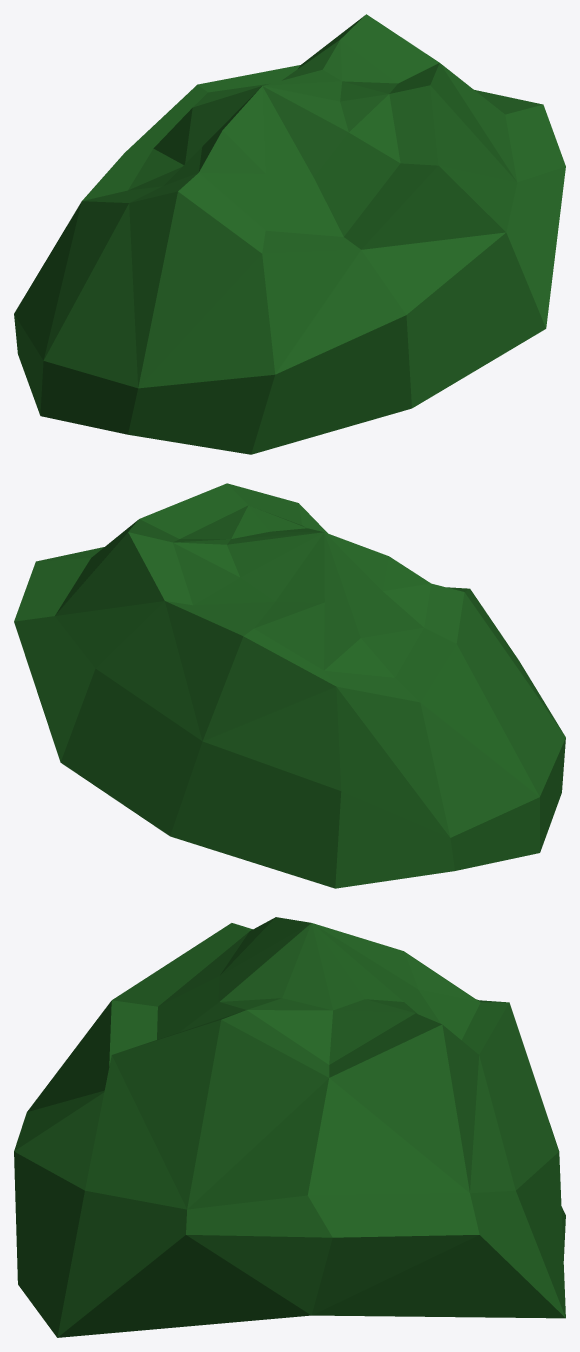
The model's file is TT_Japanese_spoon_Powder.fbx.
3 views of the same model, one above another, from view 1: azimuth 30°, elevation 25°; view 2: azimuth 150°, elevation 25°; view 3: azimuth 270°, elevation 25° (orthographic). The views are drawn at different scales.
Parts seen in each view (by area): view 1: Japanese_Powder_spoon; view 2: Japanese_Powder_spoon; view 3: Japanese_Powder_spoon.
Part boxes in pixels (x1,y1,x2,y2): Japanese_Powder_spoon: [14, 14, 565, 454]; Japanese_Powder_spoon: [14, 483, 565, 888]; Japanese_Powder_spoon: [14, 917, 565, 1337].
Bounding box in the file's own units: 1.38 × 0.7116 × 0.9666.
